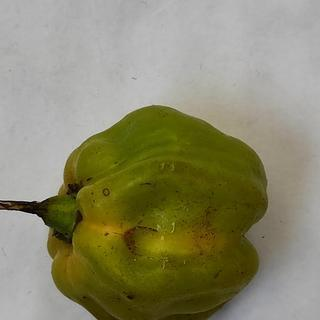Defect: (117, 220, 163, 259), (64, 180, 85, 199), (100, 186, 112, 198)
Fly-bites: (124, 293, 137, 301), (103, 231, 110, 237)
